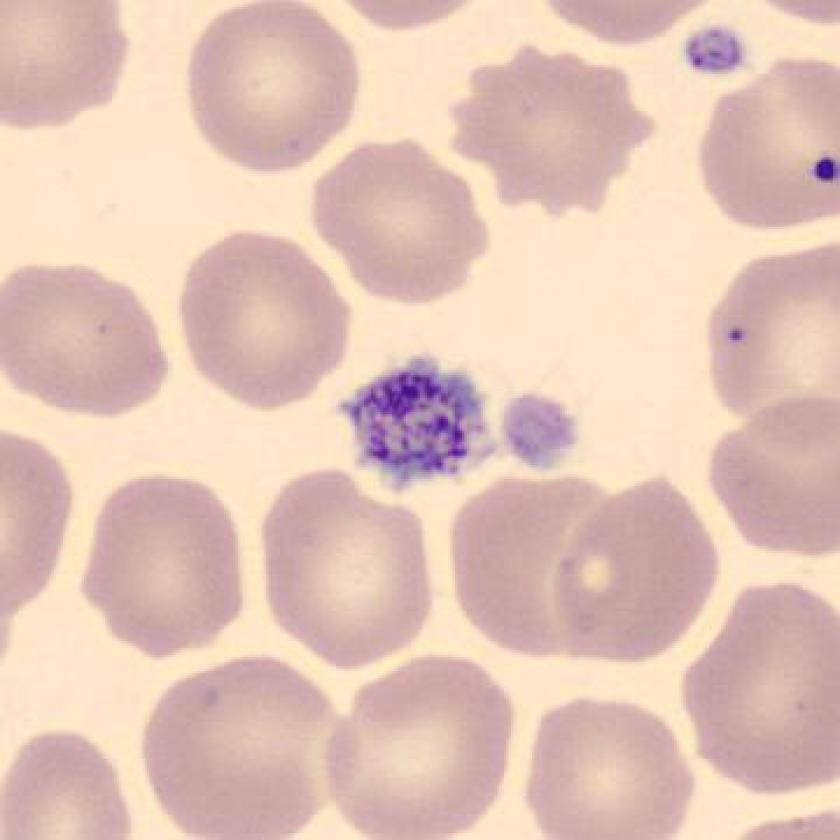platelets: (328, 346, 500, 503), (491, 385, 596, 478), (675, 17, 757, 89)
